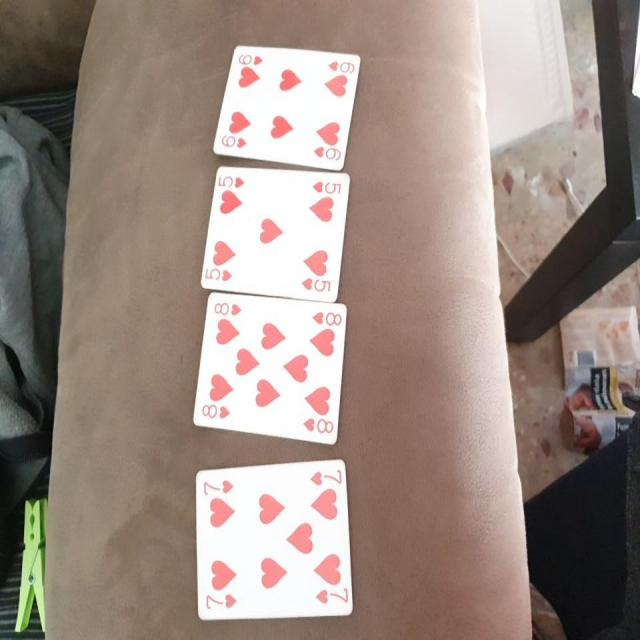5 Hearts: (197, 162, 356, 308)
6 Hearts: (208, 42, 372, 164)
7 Hearts: (193, 452, 362, 622)
8 Hearts: (188, 287, 356, 445)
